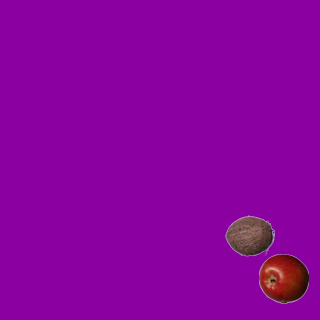Apple Braeburn: (258, 253, 308, 303)
Cocos: (224, 210, 274, 260)
